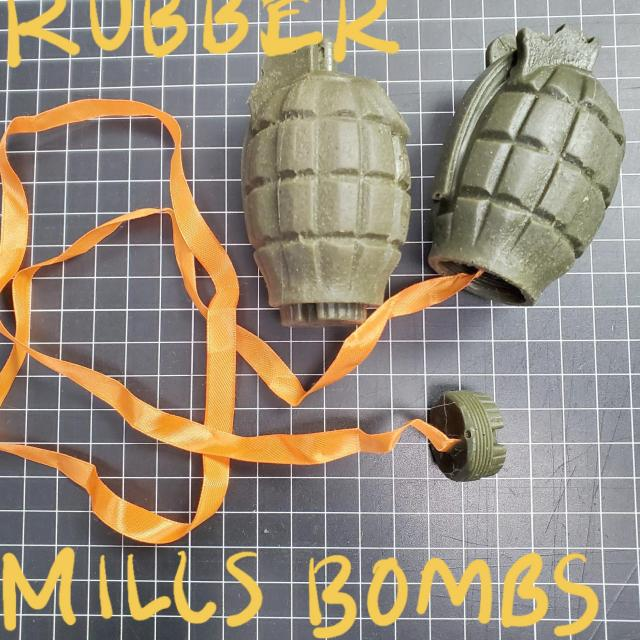grenade: (430, 25, 627, 309), (242, 42, 413, 327)
